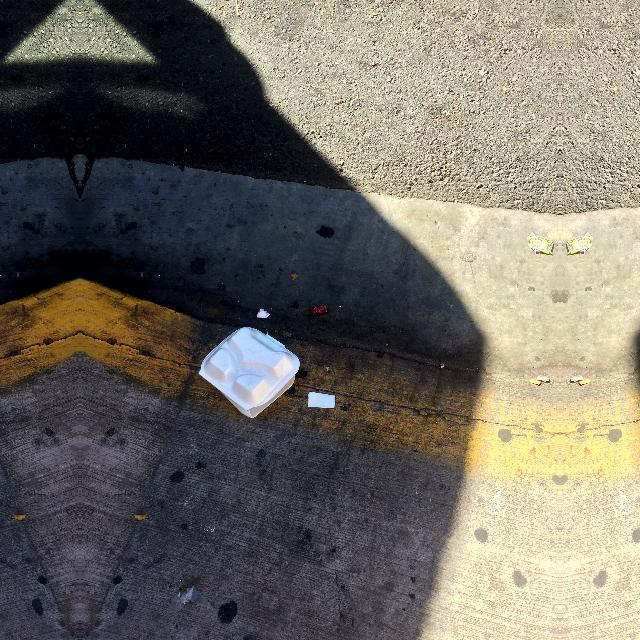Paper: (306, 389, 338, 411), (254, 306, 272, 320)
Plastic: (196, 322, 300, 420), (308, 304, 330, 314)
